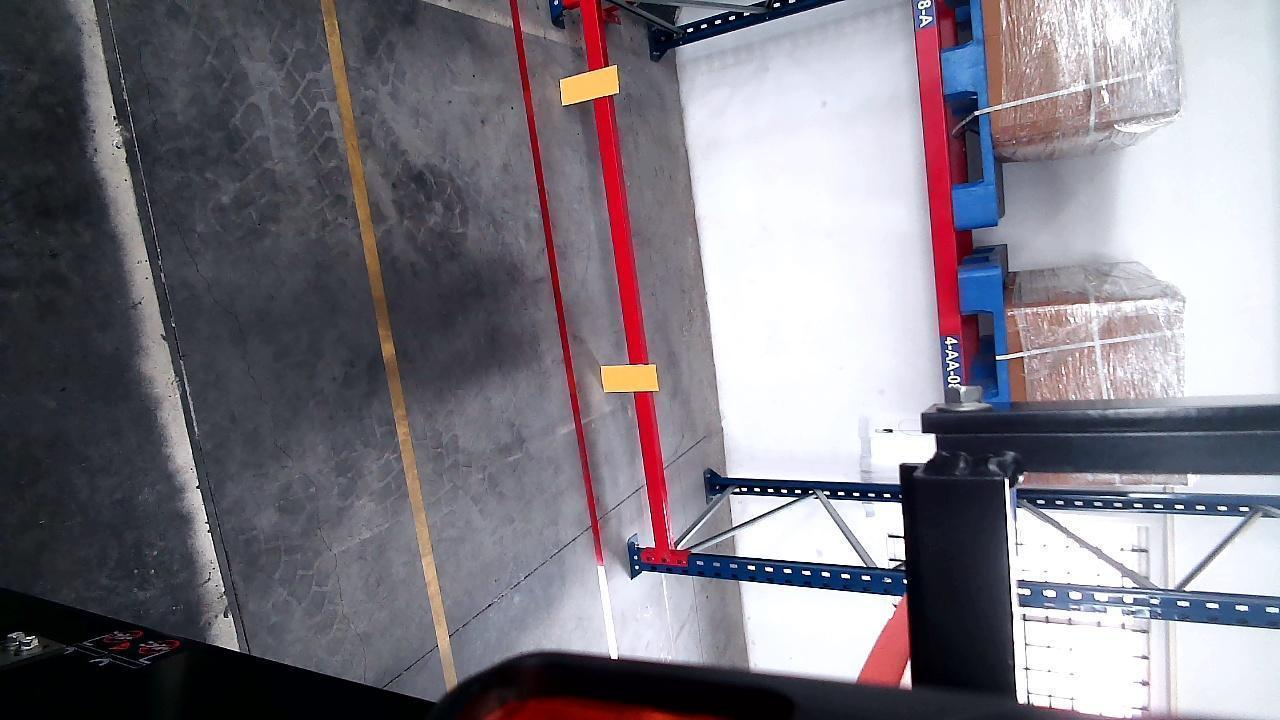red_line: (506, 0, 618, 664)
yellow_line: (308, 0, 469, 699)
